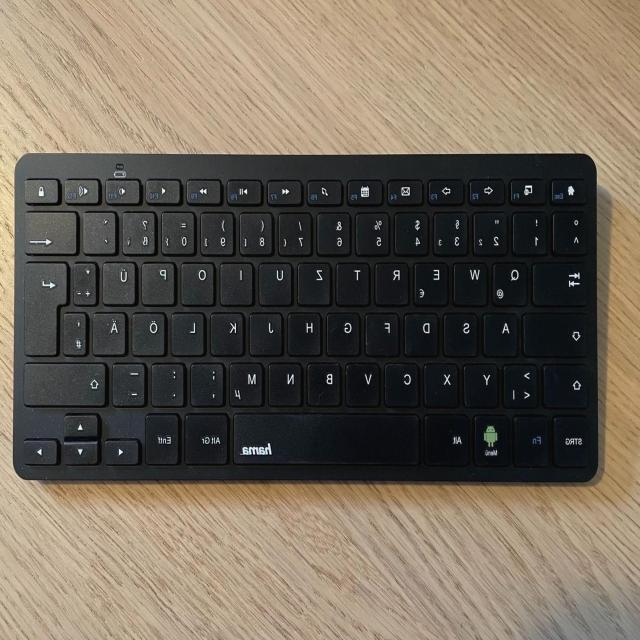0: (162, 208, 198, 254)
1: (513, 209, 549, 255)
2: (474, 209, 510, 255)
3: (435, 209, 471, 255)
4: (395, 208, 431, 254)
5: (356, 208, 392, 254)
6: (317, 209, 353, 255)
7: (279, 209, 315, 255)
8: (240, 209, 276, 255)
9: (201, 209, 237, 255)
a: (484, 310, 520, 356)
accent: (84, 208, 120, 254)
ae: (93, 309, 129, 355)
alt-left: (425, 410, 471, 465)
altgr-right: (185, 410, 231, 464)
b: (308, 359, 344, 405)
c: (386, 360, 422, 406)
caret: (553, 208, 589, 254)
comma: (192, 359, 228, 406)
d: (405, 310, 442, 356)
del: (25, 208, 80, 254)
e: (414, 259, 450, 305)
enter: (25, 260, 69, 358)
f: (366, 309, 402, 355)
g: (327, 309, 363, 355)
h: (289, 310, 324, 355)
hash: (64, 309, 90, 355)
i: (220, 259, 256, 305)
j: (250, 309, 286, 355)
k: (211, 309, 247, 355)
keyboard: (12, 144, 604, 486)
l: (172, 309, 208, 355)
less: (504, 360, 541, 408)
m: (230, 359, 266, 407)
minus: (113, 360, 149, 406)
n: (269, 359, 305, 405)
o: (182, 259, 218, 305)
oe: (132, 310, 169, 356)
p: (142, 259, 178, 305)
plus: (74, 259, 100, 305)
point: (152, 359, 188, 405)
q: (493, 260, 531, 306)
r: (375, 259, 411, 305)
s: (444, 310, 480, 356)
shift-left: (545, 361, 592, 408)
shift-lock: (524, 309, 590, 355)
shift-right: (23, 359, 109, 406)
space: (233, 409, 423, 465)
ss: (123, 208, 159, 254)
strg-left: (555, 413, 595, 467)
strg-right: (146, 410, 183, 465)
t: (337, 259, 373, 305)
tab: (533, 259, 589, 305)
u: (259, 259, 295, 305)
ue: (103, 259, 139, 306)
v: (347, 360, 383, 406)
w: (454, 259, 490, 305)
x: (425, 360, 461, 407)
y: (465, 360, 501, 406)
z: (298, 259, 334, 305)
